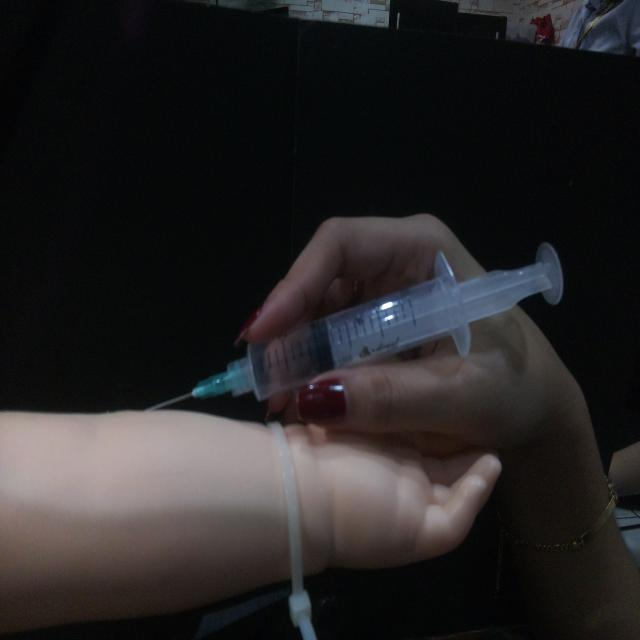18deg: (142, 237, 567, 416)
